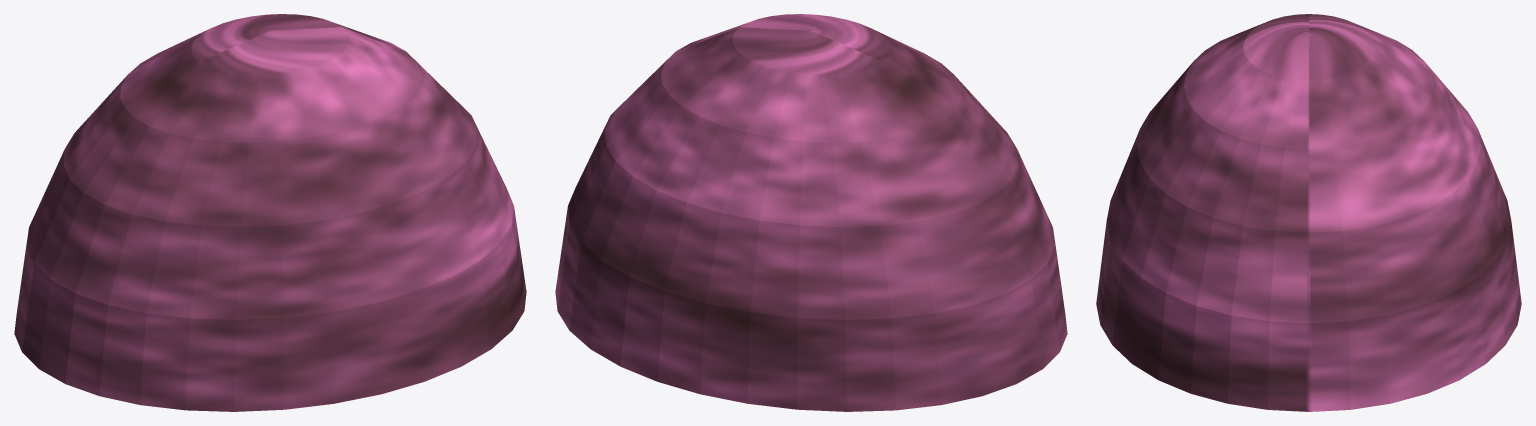
The picture shows the model from 3 angles, left to right: view 1: azimuth 30°, elevation 25°; view 2: azimuth 150°, elevation 25°; view 3: azimuth 270°, elevation 25°; orthographic projection. The views are drawn at different scales.
Parts seen in each view (by area): view 1: geometry_0; view 2: geometry_0; view 3: geometry_0.
Boxes of the visible parts, bbox=[...] form: geometry_0: bbox=[14, 14, 526, 411]; geometry_0: bbox=[555, 14, 1067, 411]; geometry_0: bbox=[1096, 14, 1521, 411].
Bounding box in the file's own units: 2.54 × 1.48 × 2.12.
Materials: 1 (1 with a texture image).
